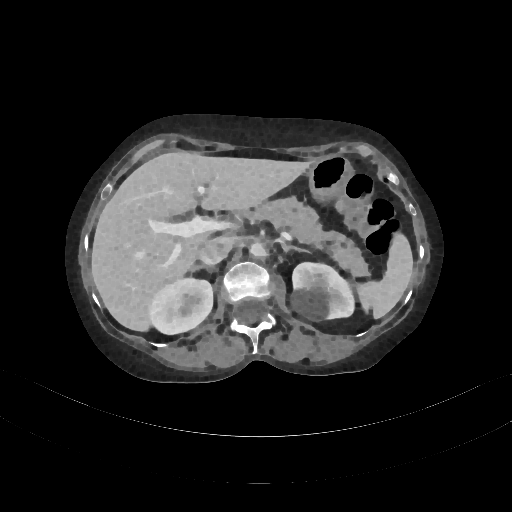Lesion: (285, 283, 334, 328)
